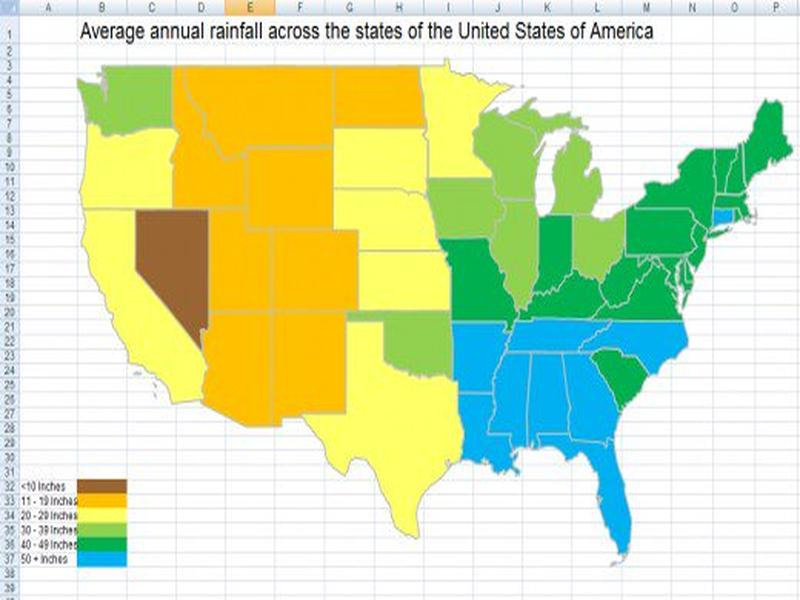legend: (19, 479, 130, 569)
